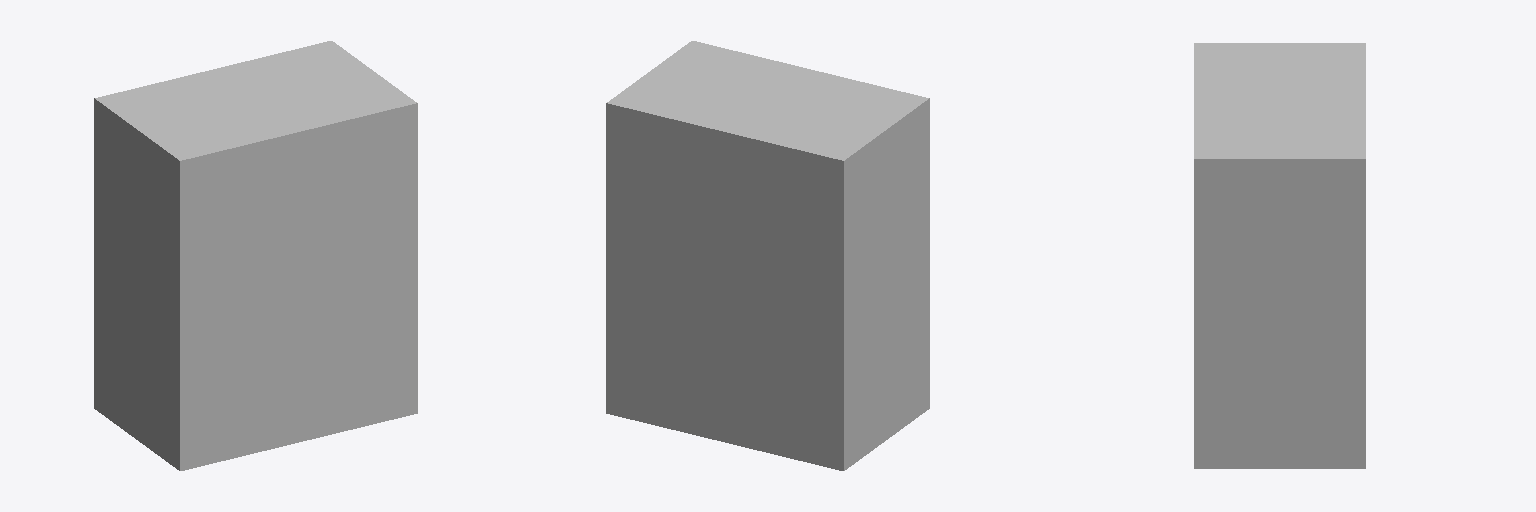
Rendered from cozy2.obj.
The picture shows the model from 3 angles: view 1: azimuth 30°, elevation 25°; view 2: azimuth 150°, elevation 25°; view 3: azimuth 270°, elevation 25°; orthographic projection.
Visible parts, largest first — view 1: off; view 2: off; view 3: off.
Part boxes in pixels (left/top/right/bottom): off: left=94, top=41, right=417, bottom=470; off: left=606, top=41, right=929, bottom=470; off: left=1194, top=43, right=1365, bottom=468.
Size of the model in its own units: 0.8 by 1 by 0.5.